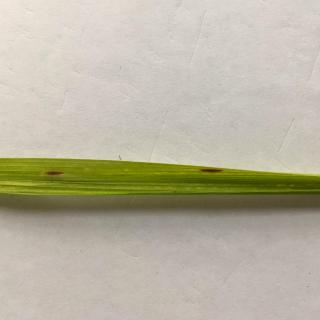bercak-Cokelat: (196, 164, 226, 177), (42, 168, 69, 180)
